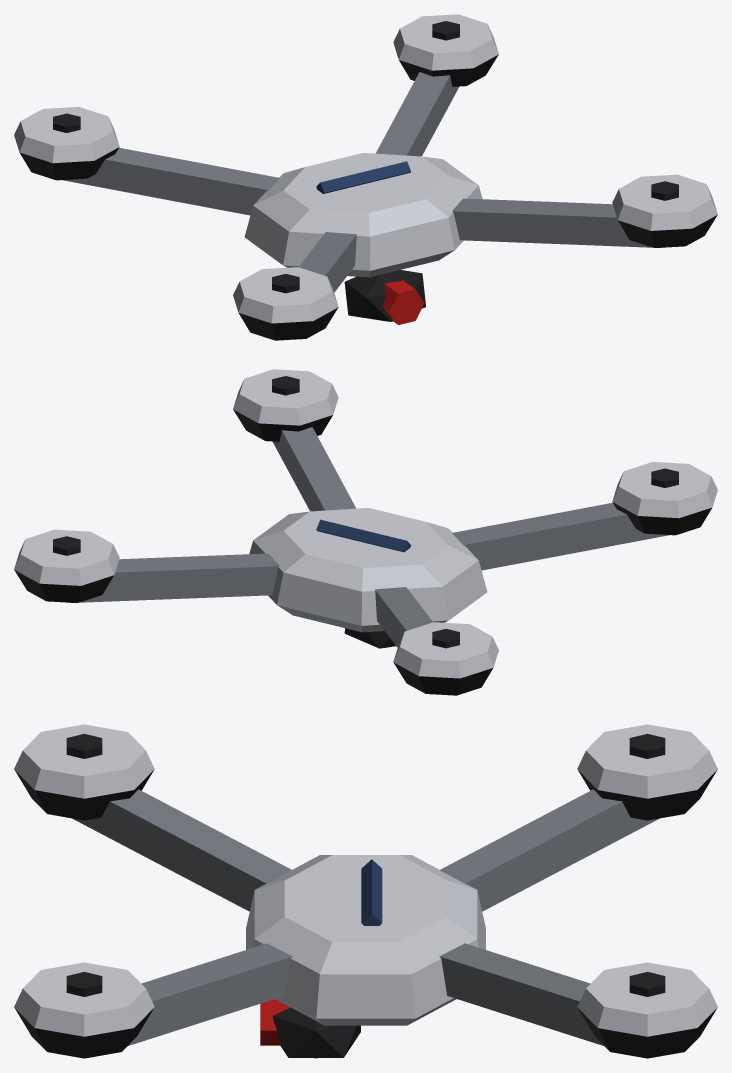
Rendered from V1_drone_a.glb.
3 views of the same model, one above another, from view 1: azimuth 30°, elevation 25°; view 2: azimuth 150°, elevation 25°; view 3: azimuth 270°, elevation 25° (orthographic). The views are drawn at different scales.
Visible parts, largest first — view 1: V1_drone_a; view 2: V1_drone_a; view 3: V1_drone_a.
Part boxes in pixels (x1,y1,x2,y2): V1_drone_a: [14, 14, 717, 340]; V1_drone_a: [14, 369, 717, 695]; V1_drone_a: [14, 724, 717, 1058].
Bounding box in the file's own units: 1.2 × 0.37 × 1.2.
